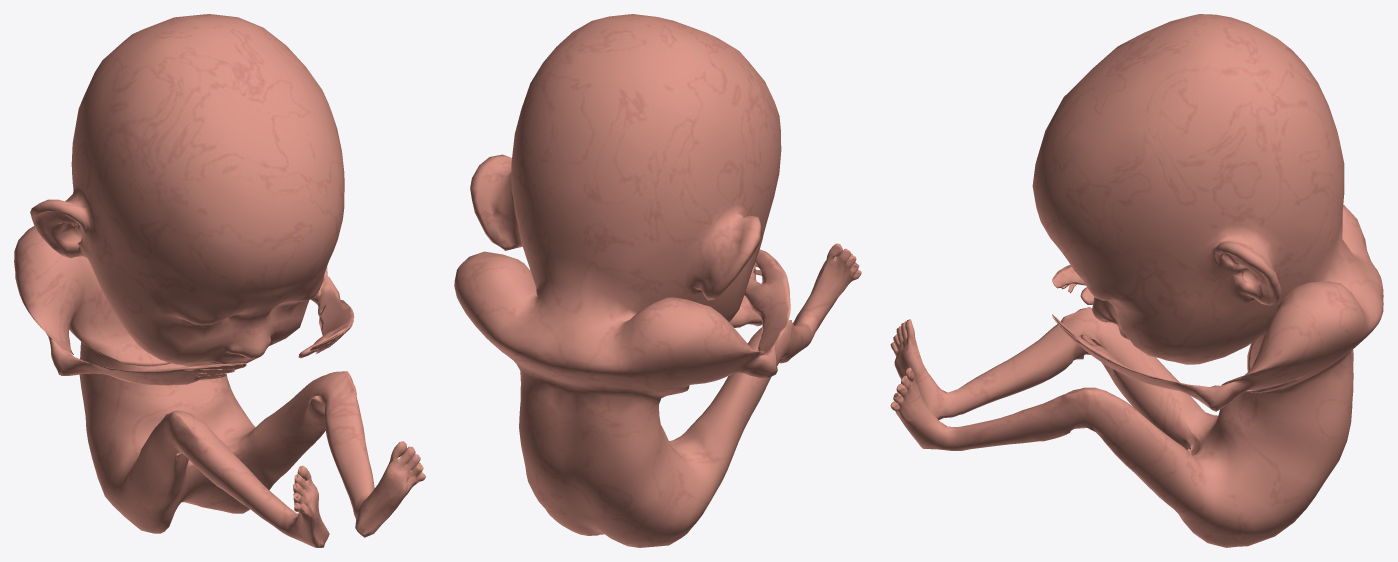
The picture shows the model from 3 angles, left to right: view 1: azimuth 30°, elevation 25°; view 2: azimuth 150°, elevation 25°; view 3: azimuth 270°, elevation 25°; orthographic projection.
Visible parts, largest first — view 1: Baby; view 2: Baby; view 3: Baby.
Boxes of the visible parts, bbox=[...] form: Baby: bbox=[14, 14, 425, 547]; Baby: bbox=[454, 14, 861, 547]; Baby: bbox=[890, 14, 1383, 547].
Size of the model in its own units: 0.0265 by 0.0446 by 0.0398.
1 material, 1 textured.
